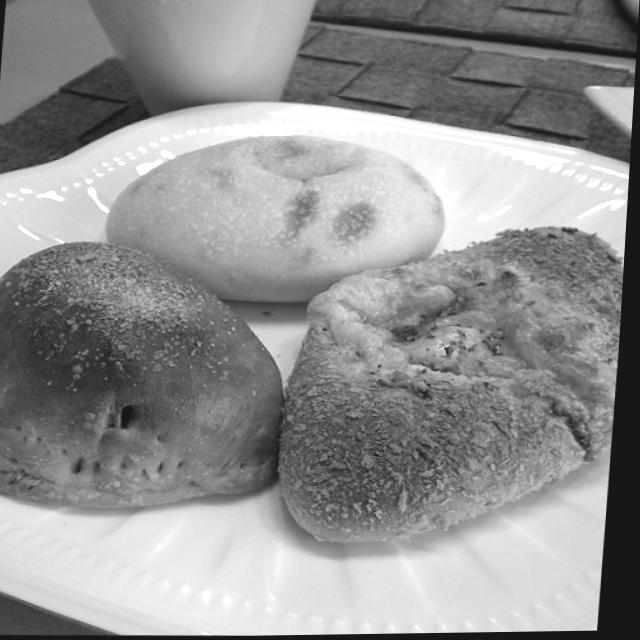三明治: (0, 128, 634, 565)
